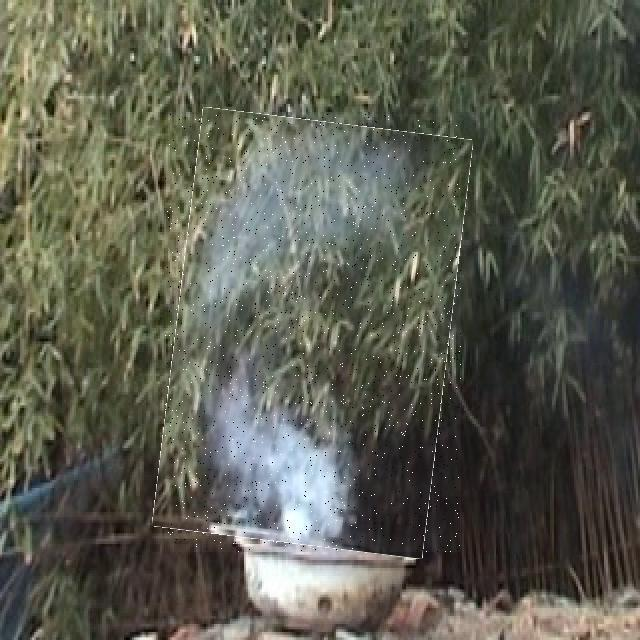smoke: (165, 114, 461, 552)
